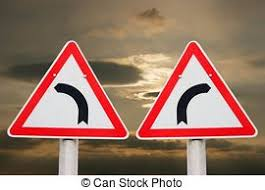Bend_to_left: (5, 39, 132, 141)
Bend_to_right: (134, 40, 259, 142)
